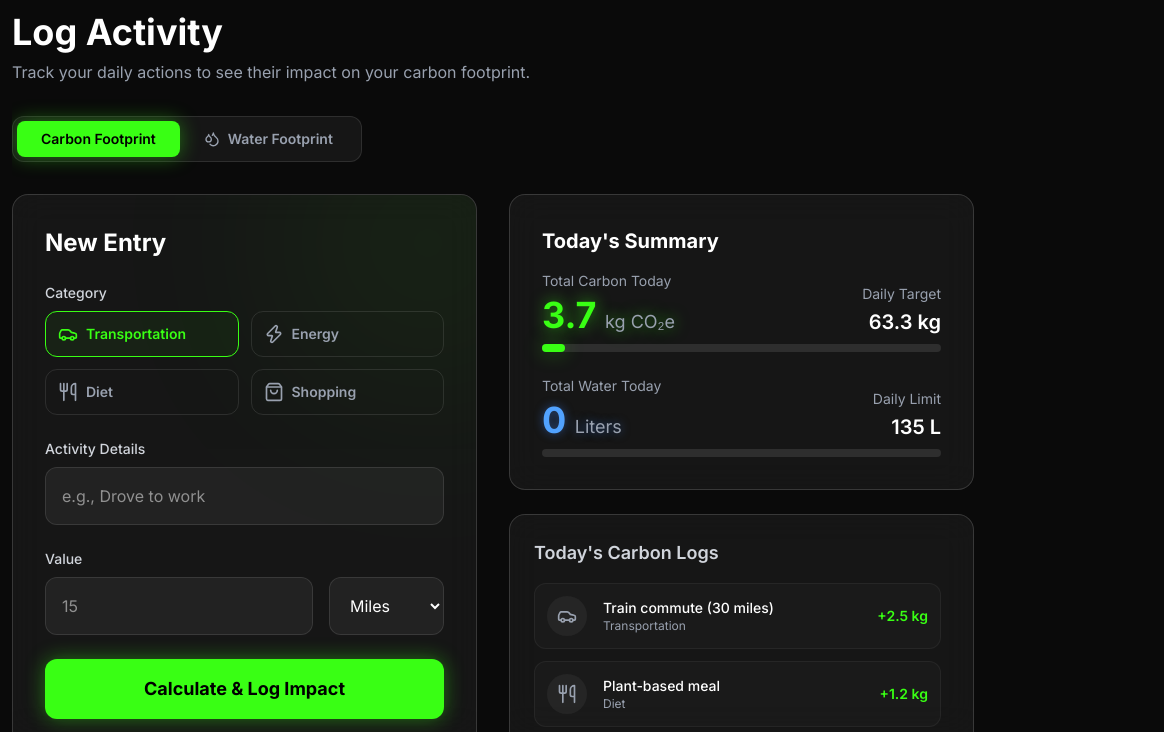
Scenario: Log Activity Page › Water form submission › submits a water log and shows success state
Click the button "Water Footprint". click: (268, 139)
box: x1=180 y1=121 x2=357 y2=157
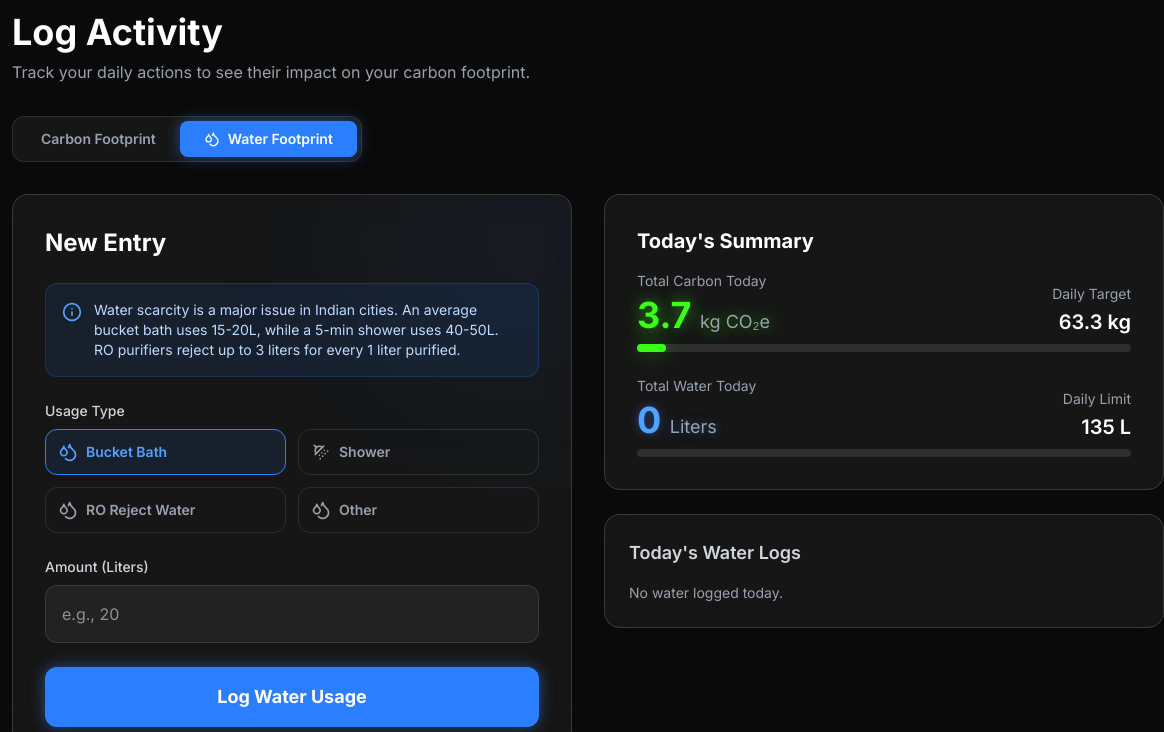
Type "30" into the number field with id "liters-input". click: (292, 614)
box: x1=45 y1=585 x2=539 y2=643
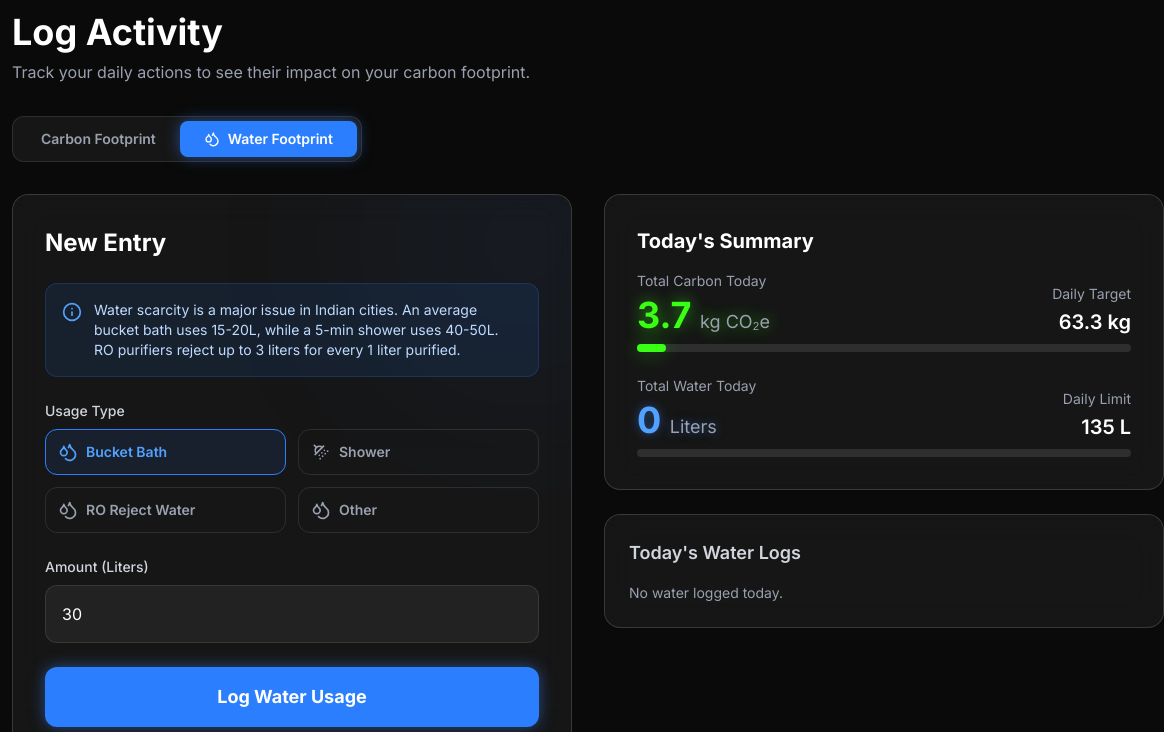
Click the button "Log Water Usage". click: (292, 697)
box: x1=45 y1=667 x2=539 y2=727
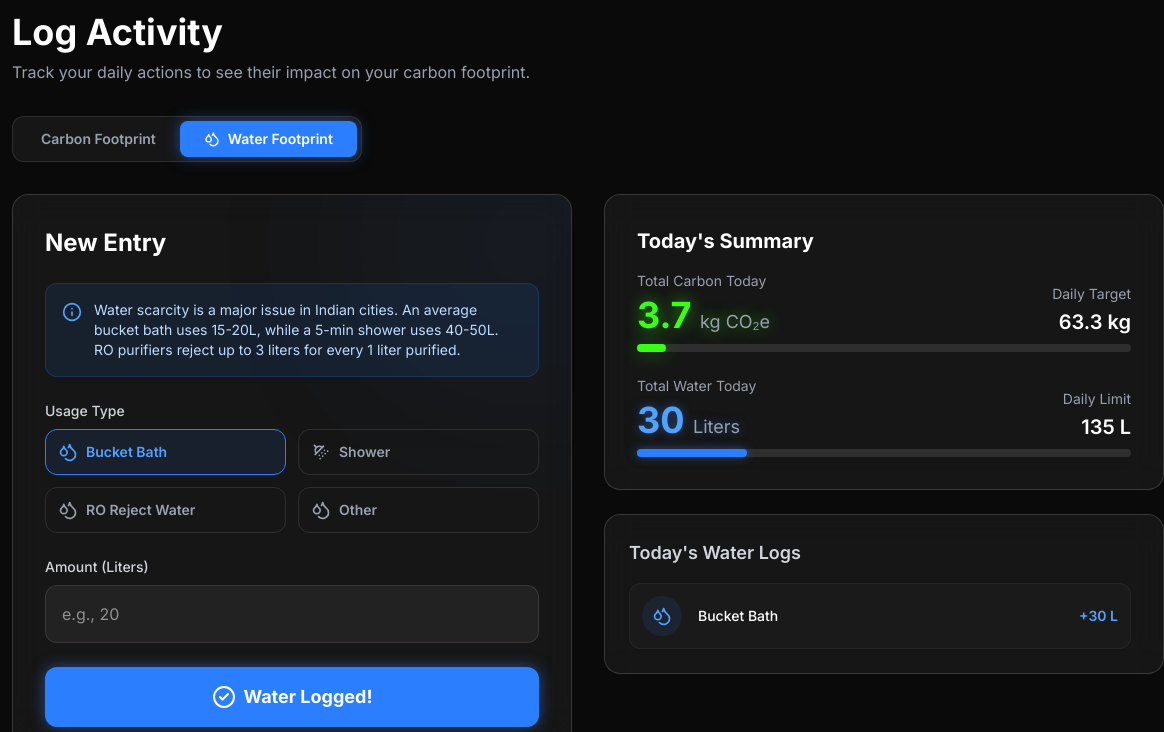
Expected: the button "Water Logged!" is shown, x1=45 y1=667 x2=539 y2=727
